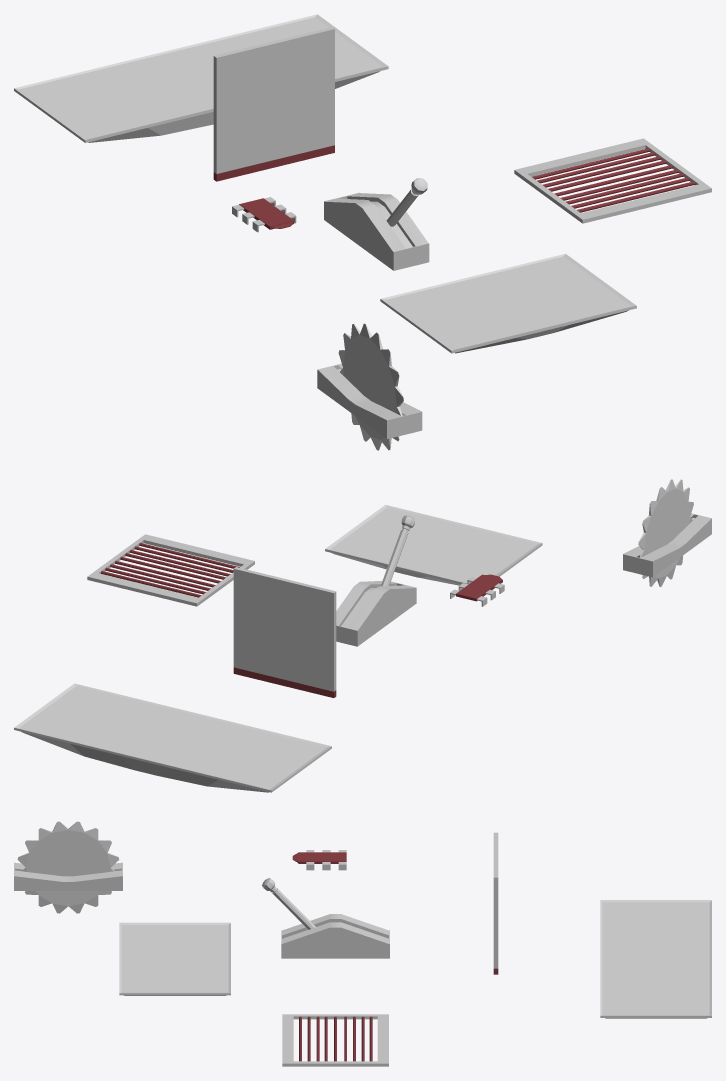
File: Props V2.fbx
3 views of the same model, one above another, from view 1: azimuth 30°, elevation 25°; view 2: azimuth 150°, elevation 25°; view 3: azimuth 270°, elevation 25° (orthographic). The views are drawn at different scales.
Visible parts, largest first — view 1: Platform Large, Door2, Platform Small, Lazers, Switch1, Saw2, Saw1, Chip; view 2: Platform Large, Door2, Platform Small, Lazers, Switch1, Saw2, Saw1, Chip, Switch2; view 3: Platform Large, Platform Small, Saw2, Switch1, Lazers, Saw1, Chip, Door2, Switch2.
Boxes of the visible parts, x1,y1,x2,y2 form: Platform Large: (14, 14, 388, 142); Door2: (213, 27, 334, 181); Platform Small: (380, 253, 636, 353); Lazers: (514, 138, 711, 223); Switch1: (324, 192, 429, 270); Saw2: (338, 323, 403, 450); Saw1: (317, 363, 422, 438); Chip: (232, 197, 296, 232); Platform Large: (14, 683, 331, 792); Door2: (233, 567, 336, 697); Platform Small: (325, 505, 542, 585); Lazers: (87, 534, 254, 606); Switch1: (336, 581, 416, 646); Saw2: (638, 479, 693, 586); Saw1: (623, 513, 711, 577); Chip: (450, 574, 504, 606); Switch2: (381, 515, 414, 586); Platform Large: (600, 900, 711, 1018); Platform Small: (119, 922, 230, 995); Saw2: (17, 821, 119, 913); Switch1: (281, 914, 389, 958); Lazers: (282, 1014, 388, 1066); Saw1: (14, 862, 122, 890); Chip: (292, 850, 346, 870); Door2: (493, 832, 498, 974); Switch2: (262, 878, 315, 929).
Size of the model in its own units: 839 by 260 by 1306.
